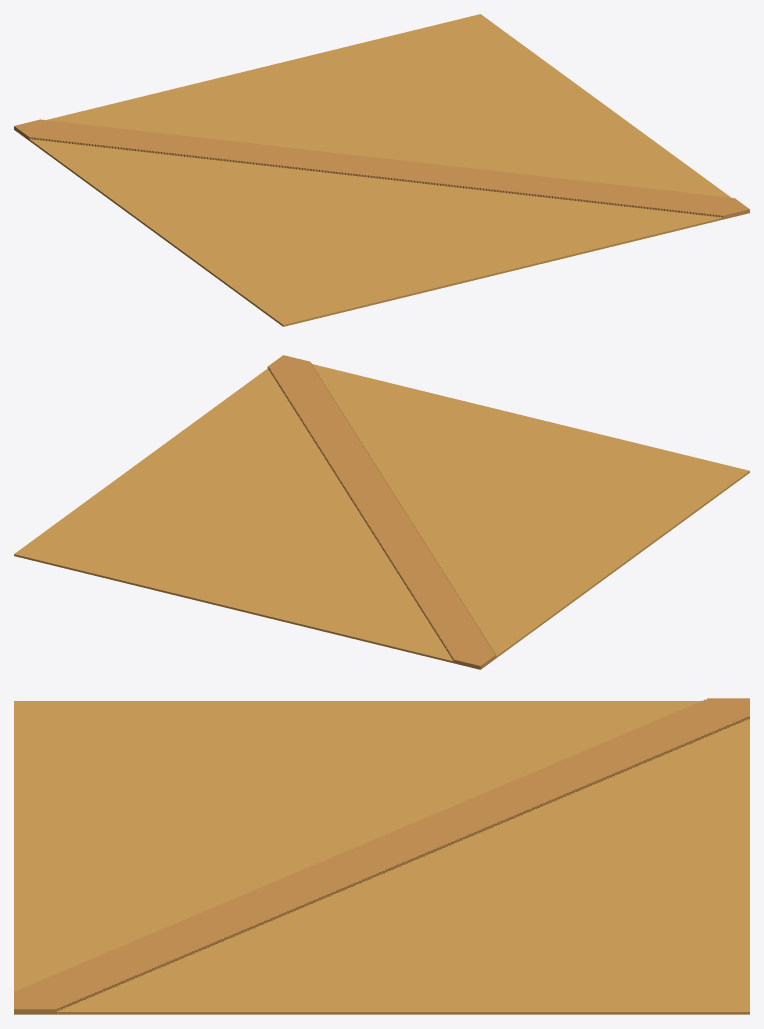
File: shadow-0.obj
3 renders of one model, top to bottom at view 1: azimuth 30°, elevation 25°; view 2: azimuth 150°, elevation 25°; view 3: azimuth 270°, elevation 25°, orthographic. The views are drawn at different scales.
Bounding box in the file's own units: 25.6 × 0.2 × 25.6.
1 material, 1 textured.
